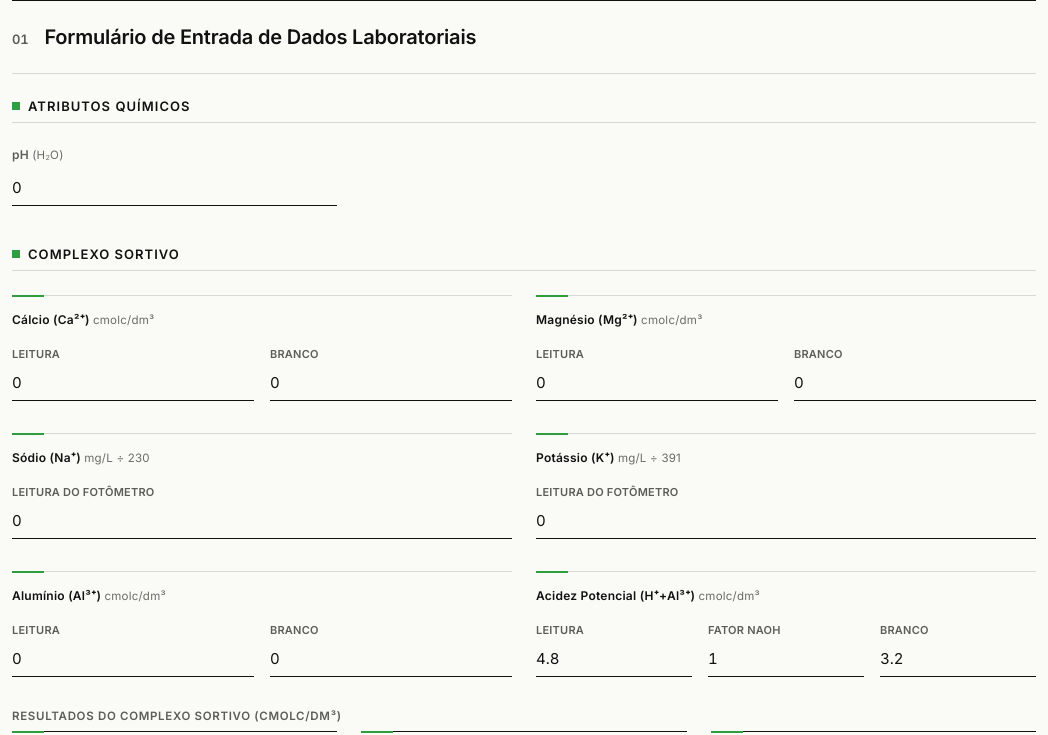
Scenario: registro da acidez potencial › mostra o fator do NaOH, calcula (leitura × fator) − branco e avisa fator inválido
Replace the text in the field labelled "Fator NaOH" with "0" at coordinates (786, 659), box [708,641,864,677]
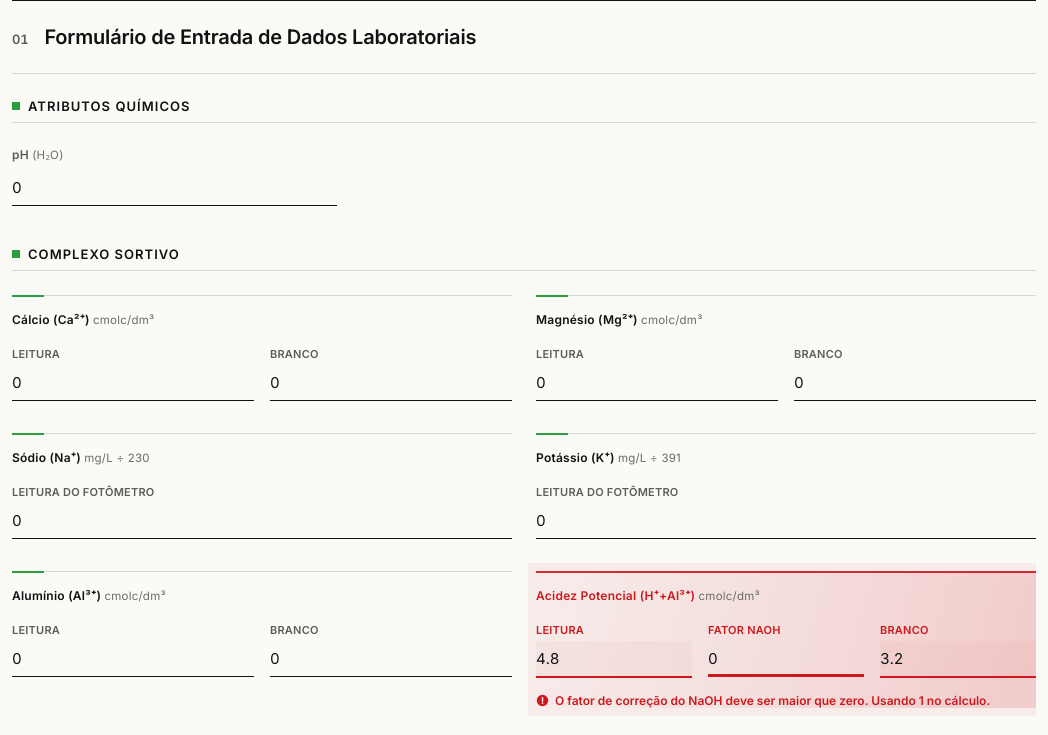
Check: the text "O fator de correção do NaOH deve ser maior que zero. Usando 1 no cálculo." is shown, box [536,693,1036,708]
Replace the text in the field labelled "Fator NaOH" with "1,5" at coordinates (786, 659), box [708,641,864,677]
(page scrolled)
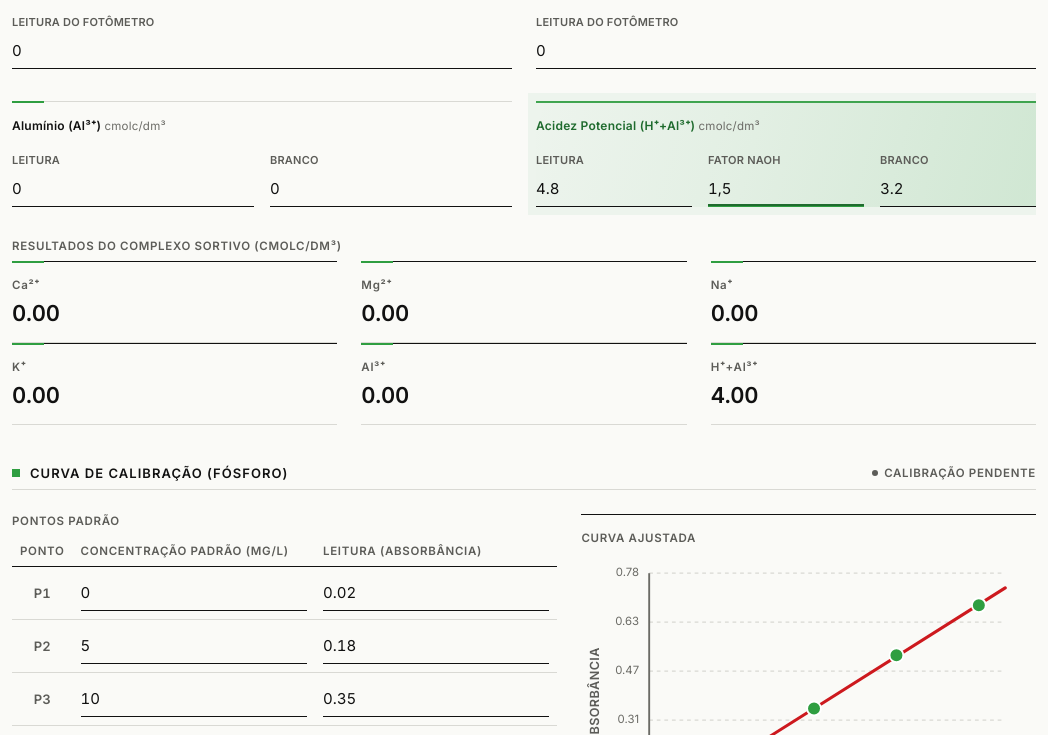
Check: the element showing "H⁺+Al³⁺ 4.00" is shown, box [711,343,1036,425]
